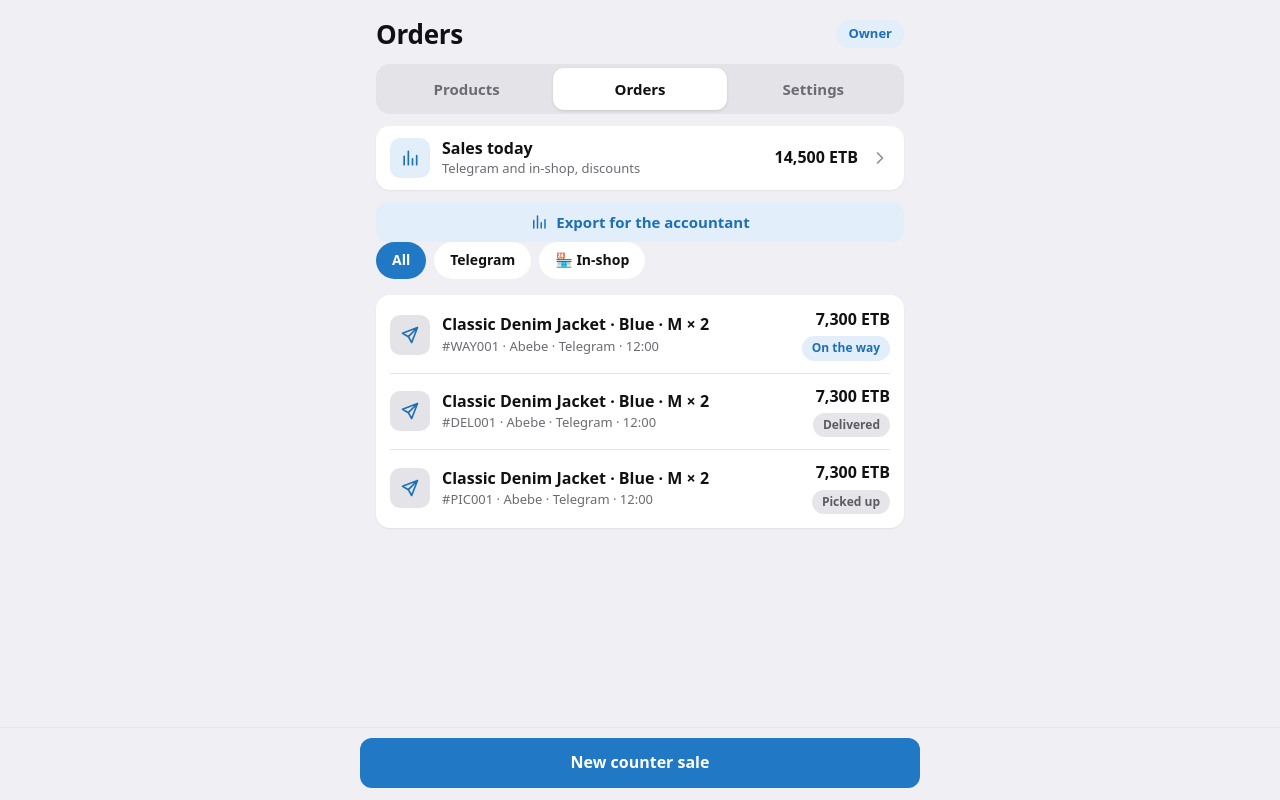
Scenario: Order stages and the export (Phase 15) › shows on the way, delivered and picked up
Expected: the text "On the way" is shown, [802,336,890,361]
Expected: the text "Delivered" is shown, [813,413,890,437]
Step 1. Click the text "#WAY001 · Abebe · Telegram · 12:00" → [550, 346], box [442,337,659,355]
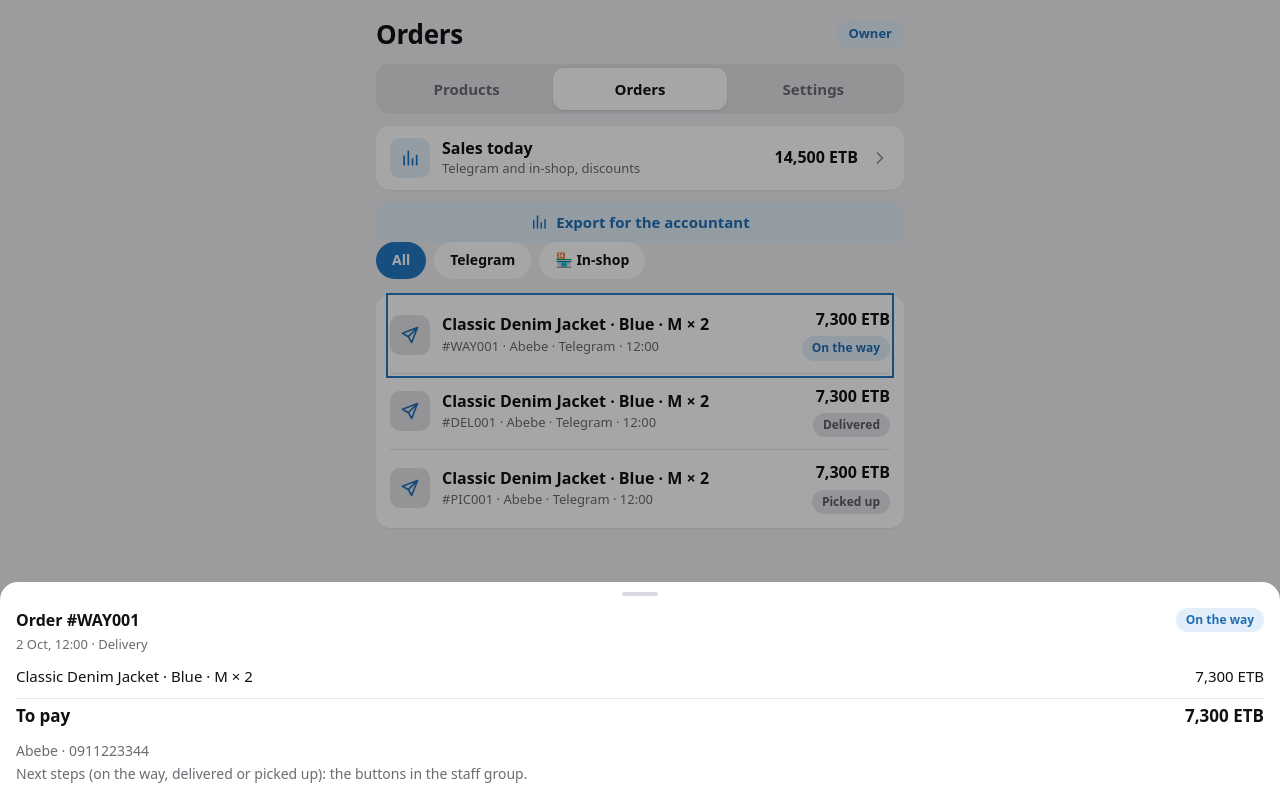
Now the text "buttons in the staff group" is shown, box [16,764,527,783]
